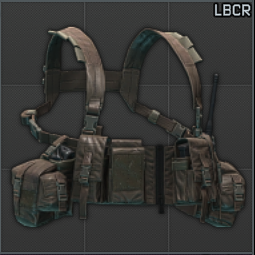LBT-1961A Load Bearing chest rig: (0, 0, 255, 255)
